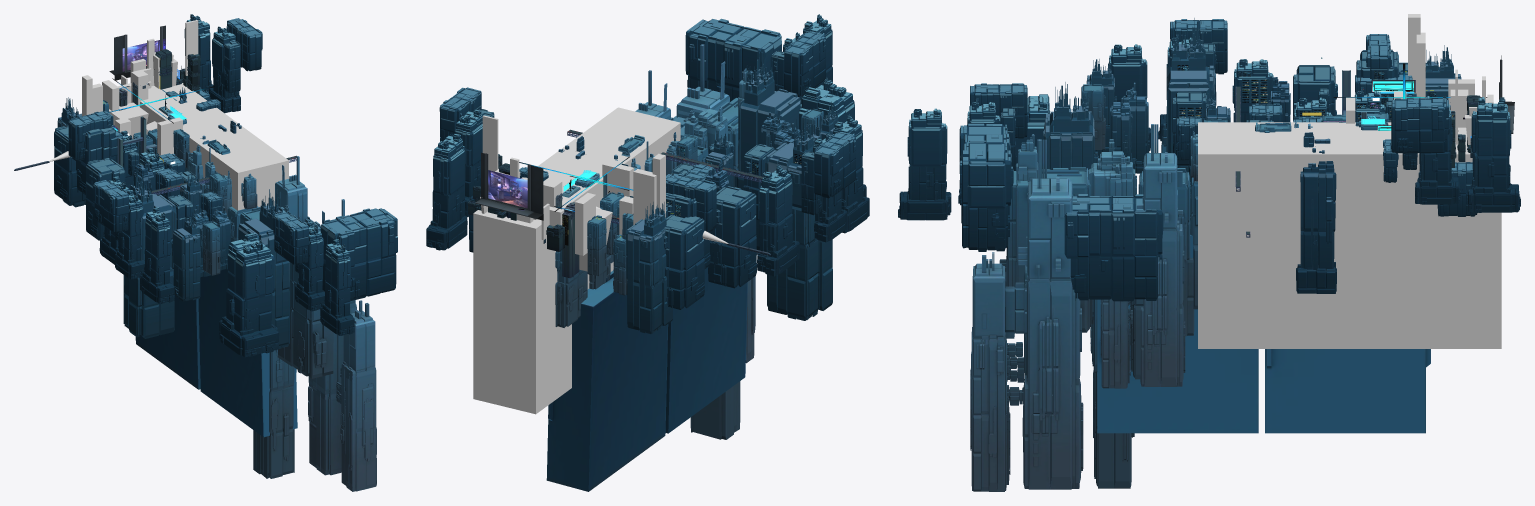
The model's file is title.gltf.
3 views of the same model, side by side, from view 1: azimuth 30°, elevation 25°; view 2: azimuth 150°, elevation 25°; view 3: azimuth 270°, elevation 25° (orthographic). The views are drawn at different scales.
Parts seen in each view (by area): view 1: Layer_None (×2), Title_Building_3, Layer_2 (×2), Title_Building_4, Volumetric Rect Area Light_6, Title_Building_2 (2), Title_Building_2 (1), Title_Building_1, Title_Building_2 (3), Layer_4, Title_Building_2, Title_Window_n01b (+10 smaller); view 2: Layer_2 (×2), Volumetric Rect Area Light_6, Title_Building_3, Title_Building_4, Layer_None (×2), Title_Building_1, Title_Building_2 (3), Title_Building_2 (1), Title_Building_5, Title_Building_2 (2), Layer_4, Title_Window_n01b (+9 smaller); view 3: Volumetric Rect Area Light_6, Layer_None (×2), Layer_2, Title_Building_3, Title_Building_2 (3), Title_Building_4, Title_Building_1, Title_Building_2 (2), Title_Building_2 (1), Layer_4, windows, Title_Building_2 (+2 smaller).
Part boxes in pixels (bbox=[...]): Layer_None (×2): bbox=[103, 100, 376, 491]; Title_Building_3: bbox=[54, 87, 397, 357]; Layer_2 (×2): bbox=[117, 89, 297, 437]; Title_Building_4: bbox=[123, 167, 289, 348]; Volumetric Rect Area Light_6: bbox=[140, 83, 288, 210]; Title_Building_2 (2): bbox=[273, 212, 354, 335]; Title_Building_2 (1): bbox=[93, 180, 174, 303]; Title_Building_1: bbox=[85, 120, 241, 264]; Title_Building_2 (3): bbox=[184, 14, 262, 113]; Layer_4: bbox=[133, 129, 230, 275]; Title_Building_2: bbox=[110, 129, 164, 193]; Title_Window_n01b: bbox=[109, 25, 165, 80]; Layer_2 (×2): bbox=[546, 159, 747, 491]; Volumetric Rect Area Light_6: bbox=[473, 107, 680, 414]; Title_Building_3: bbox=[469, 18, 866, 309]; Title_Building_4: bbox=[705, 52, 843, 320]; Layer_None (×2): bbox=[567, 44, 763, 439]; Title_Building_1: bbox=[558, 136, 799, 288]; Title_Building_2 (3): bbox=[426, 87, 494, 250]; Title_Building_2 (1): bbox=[801, 114, 869, 242]; Title_Building_5: bbox=[626, 202, 672, 334]; Title_Building_2 (2): bbox=[771, 14, 832, 103]; Layer_4: bbox=[600, 109, 823, 255]; Title_Window_n01b: bbox=[475, 152, 543, 220]; Volumetric Rect Area Light_6: bbox=[1198, 122, 1501, 348]; Layer_None (×2): bbox=[970, 86, 1420, 491]; Layer_2: bbox=[1097, 235, 1430, 433]; Title_Building_3: bbox=[959, 34, 1477, 301]; Title_Building_2 (3): bbox=[1391, 96, 1520, 212]; Title_Building_4: bbox=[1043, 18, 1230, 184]; Title_Building_1: bbox=[1172, 59, 1337, 293]; Title_Building_2 (2): bbox=[898, 83, 1027, 220]; Title_Building_2 (1): bbox=[1108, 19, 1227, 150]; Layer_4: bbox=[1080, 84, 1388, 149]; windows: bbox=[1177, 64, 1436, 122]; Title_Building_2: bbox=[1293, 72, 1412, 122].
Bounding box in the file's own units: 14.67 × 19.1 × 24.62.
39 materials, 39 textured.
